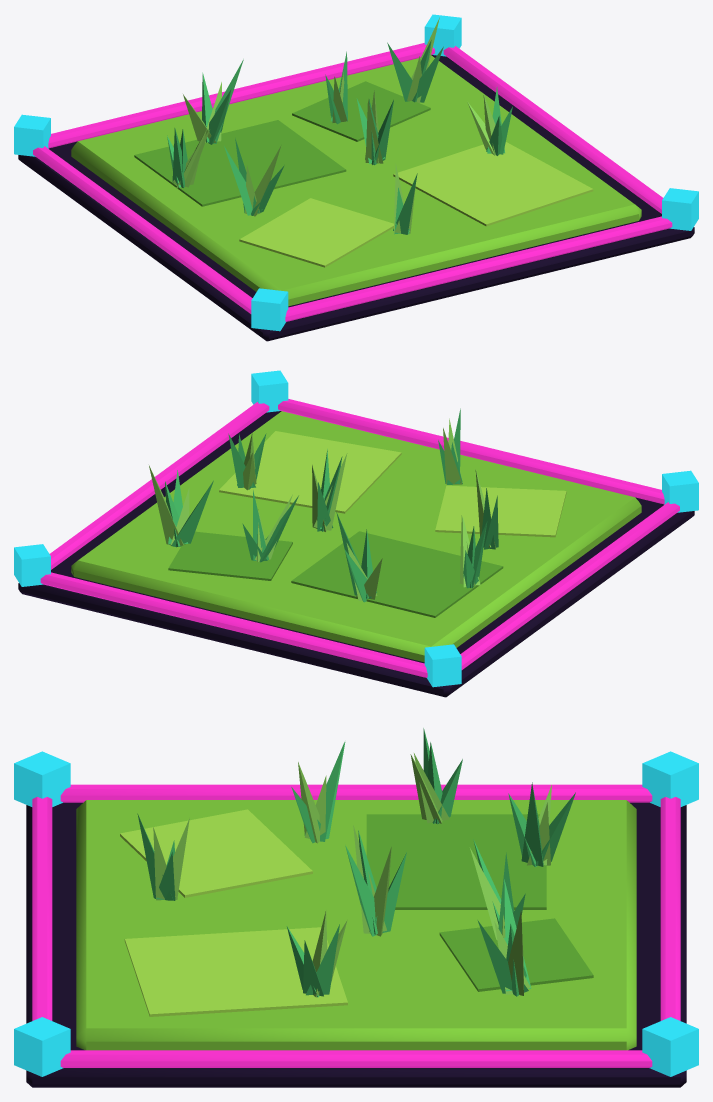
The model's file is me_plot.glb.
3 renders of one model, top to bottom at view 1: azimuth 30°, elevation 25°; view 2: azimuth 150°, elevation 25°; view 3: azimuth 270°, elevation 25°, orthographic. The views are drawn at different scales.
Parts seen in each view (by area): view 1: me_plot, fx_glow_outline; view 2: me_plot, fx_glow_outline; view 3: me_plot, fx_glow_outline.
Boxes of the visible parts, x1,y1,x2,y2 form: me_plot: [18, 17, 694, 341]; fx_glow_outline: [14, 14, 698, 331]; me_plot: [18, 408, 694, 697]; fx_glow_outline: [14, 370, 698, 687]; me_plot: [26, 728, 686, 1087]; fx_glow_outline: [14, 751, 698, 1076].
Bounding box in the file's own units: 3.42 × 0.7658 × 3.42.
2 materials, 2 textured.
